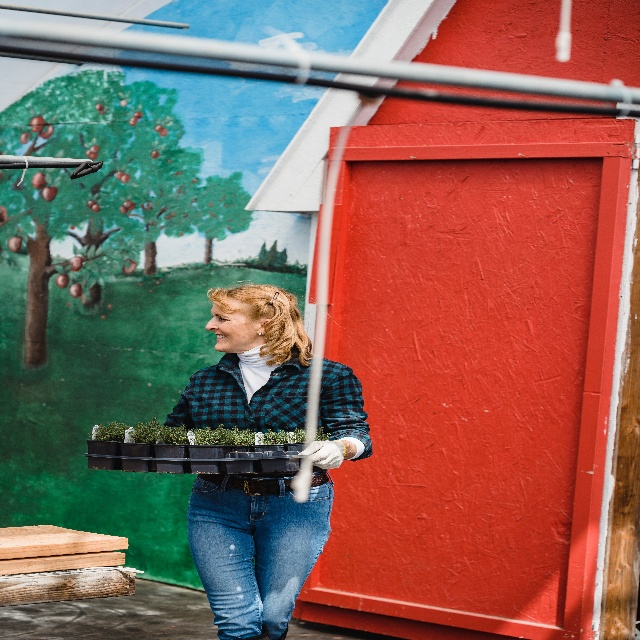Guantes: (297, 439, 344, 467)
